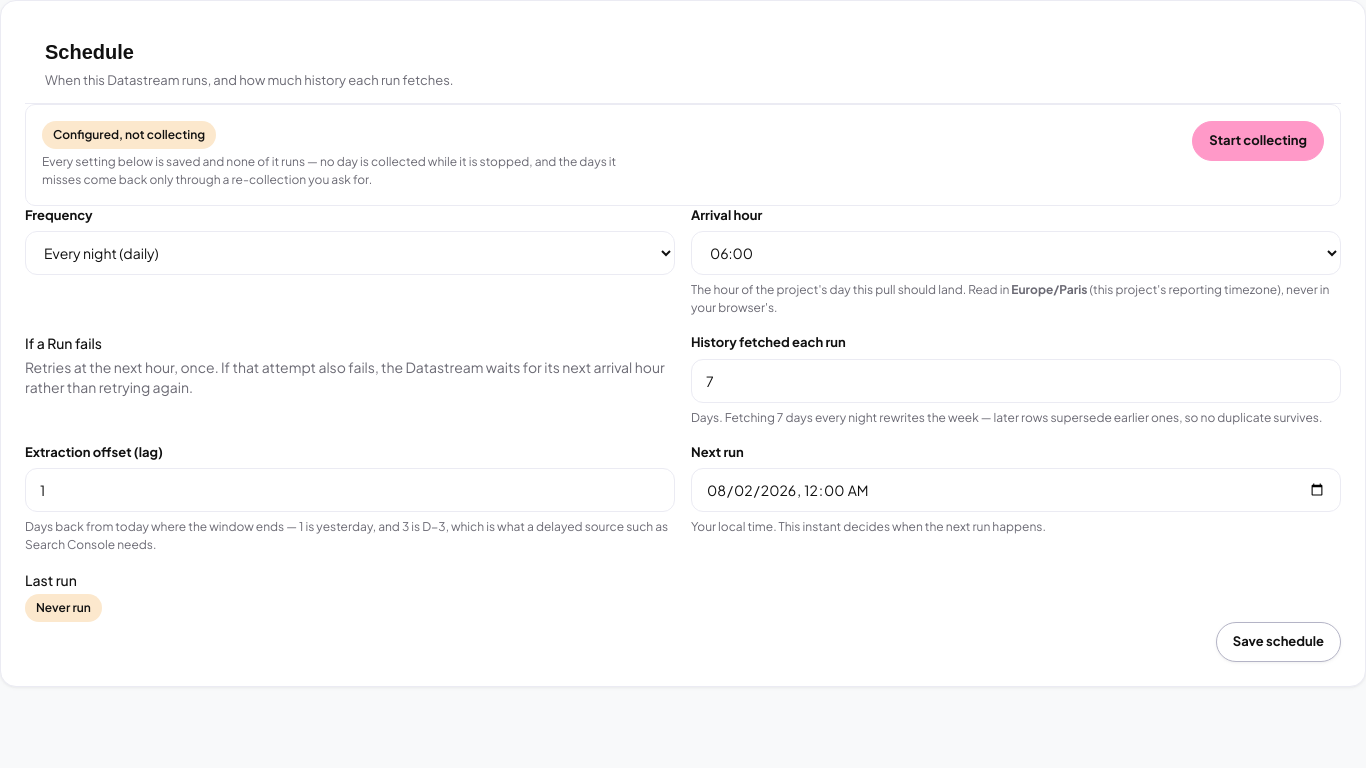
Test: SchedulePanel › shows the server's refusal to start rather than a generic failure
The image size is (1366, 768).
Click the button with test id "schedule-arm": (1258,140) [1192,120,1324,160]
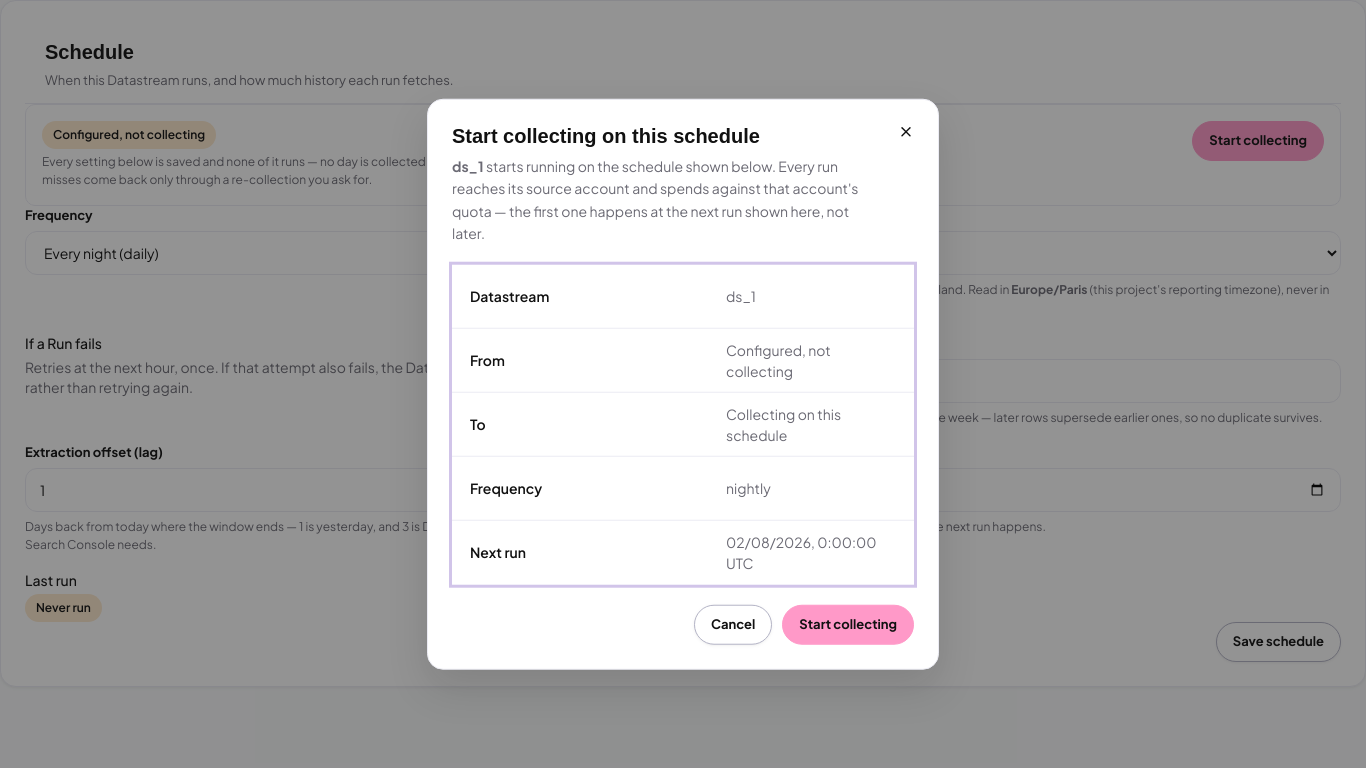
Click the button with test id "schedule-arm-confirm-accept": (848,624) [782,604,914,644]
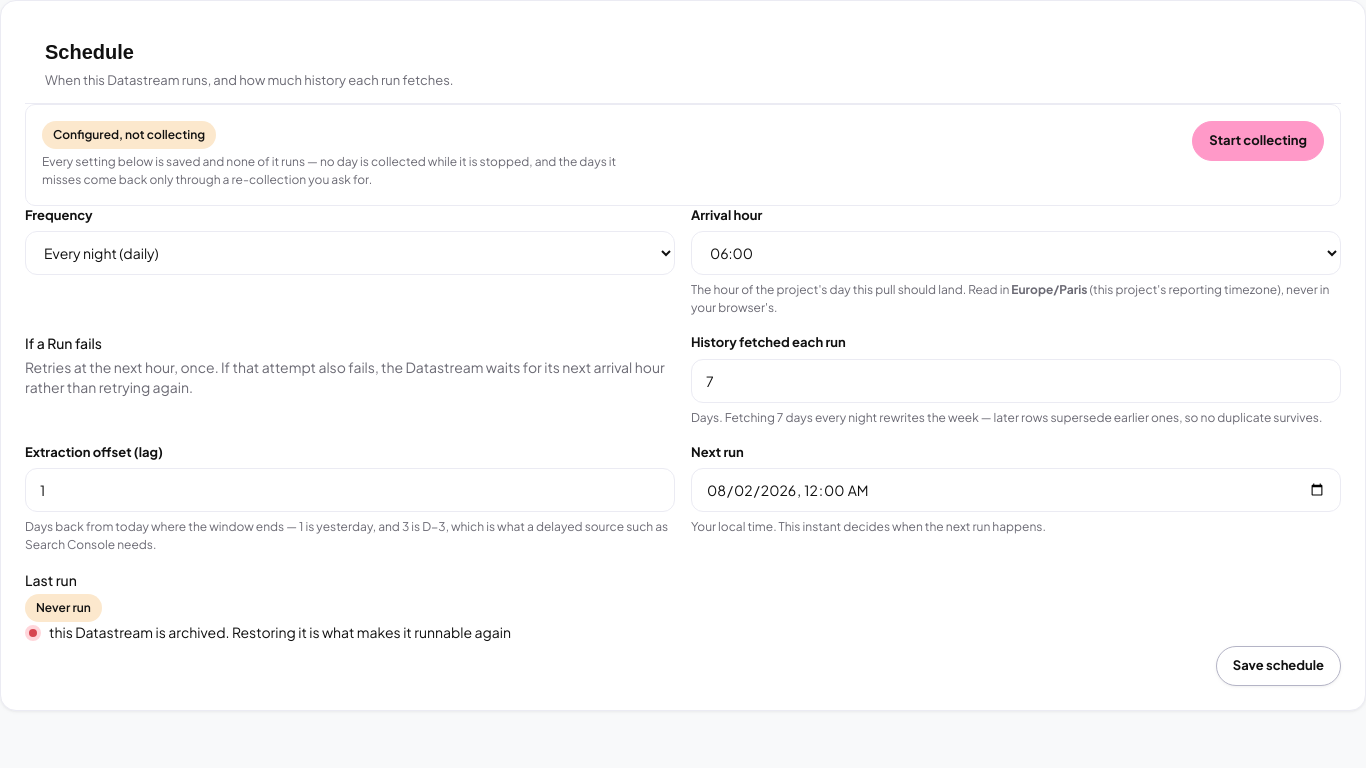
Now the text "Restoring it" is shown, box [49,623,511,641]
